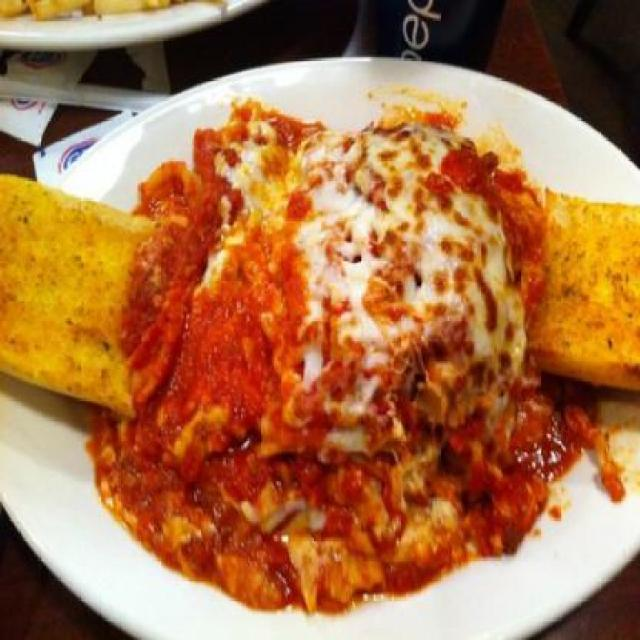Lasagna: (140, 99, 549, 535)
